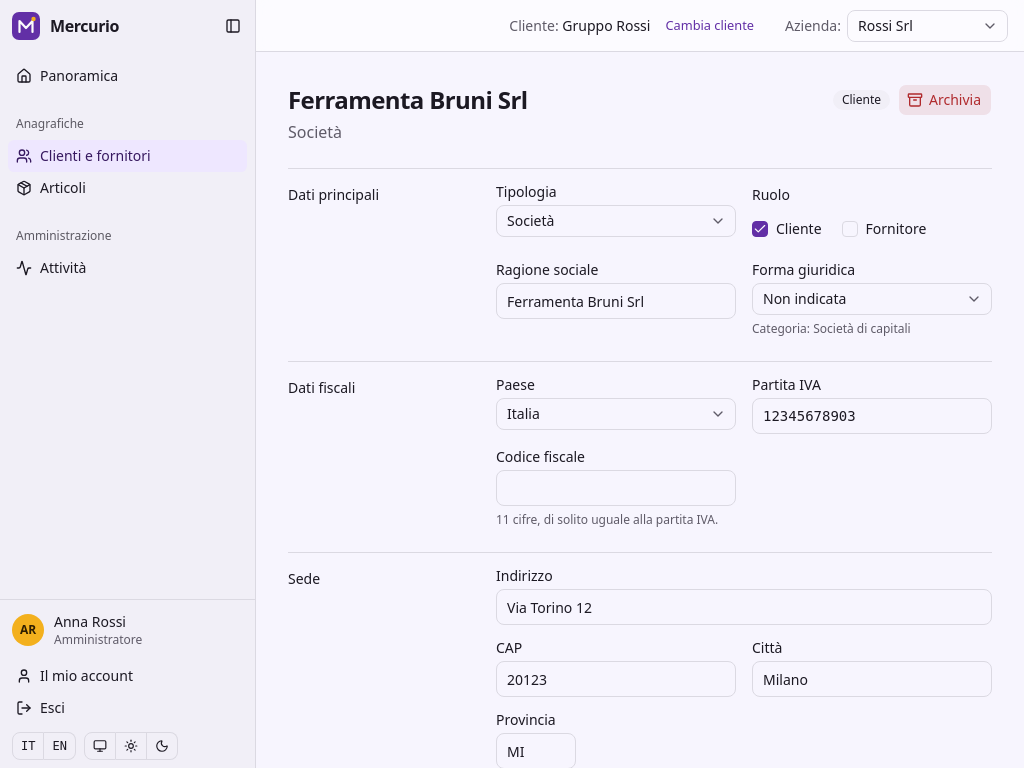
Scenario: party record › archives after a question that repeats the name
The width and height of the screenshot is (1024, 768).
Click the button "Archivia" at (945, 100), box [898,84,992,116]
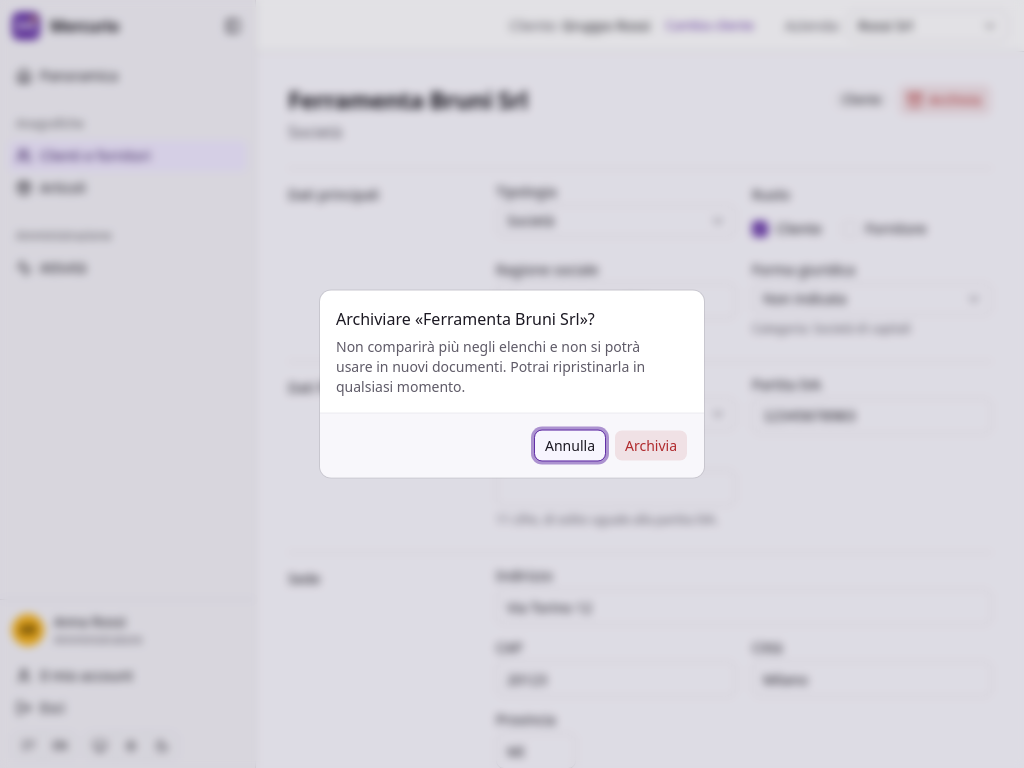
Result: the dialog shows "Archiviare «Ferramenta Bruni Srl»?" at [336,308,595,330]
Click the button "Archivia" at (651, 446), box [614,430,688,462]
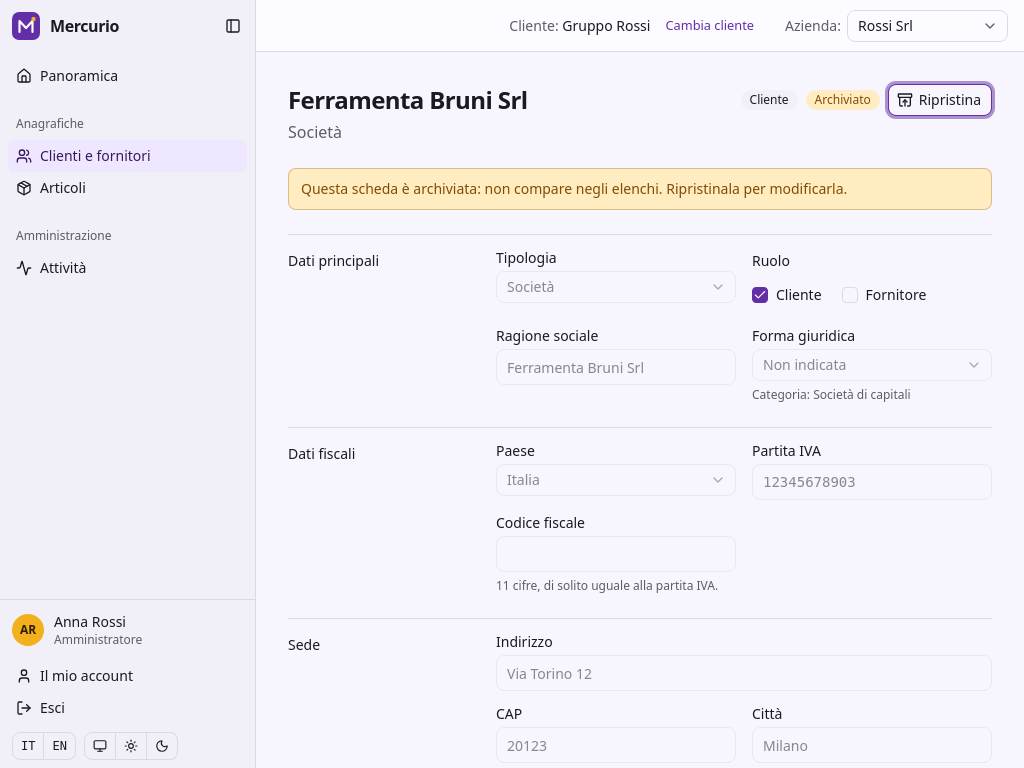
Expected: the field labelled "Ragione sociale" is disabled, [496,349,736,385]
Result: the text "Questa scheda è archiviata" is shown at [301,179,847,198]
Result: the number of buttons "Ripristina" is 1 at [888,84,992,116]
